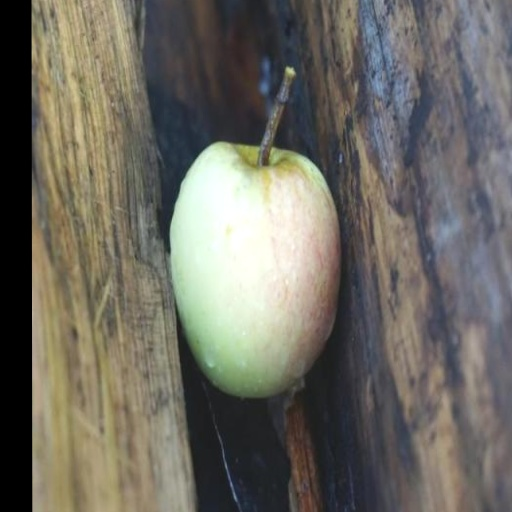fruit: (171, 69, 339, 396)
